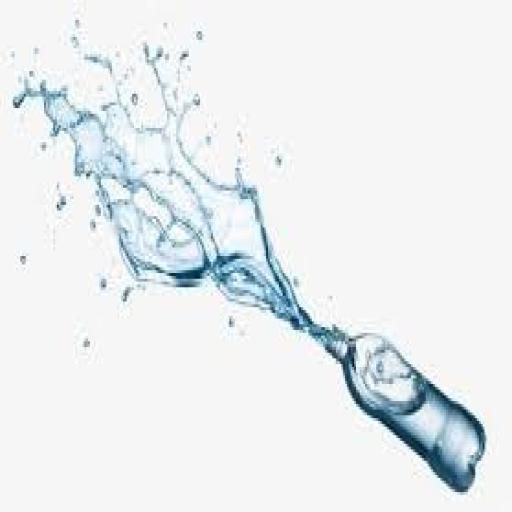bottle: (321, 309, 489, 511)
